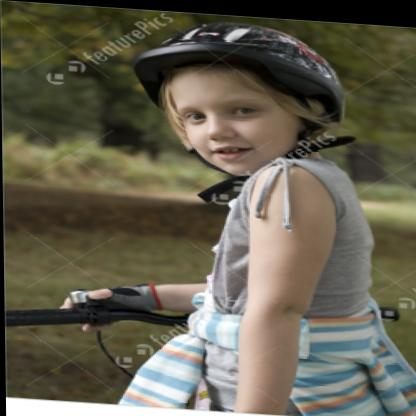With Helmet: (132, 13, 343, 182)
